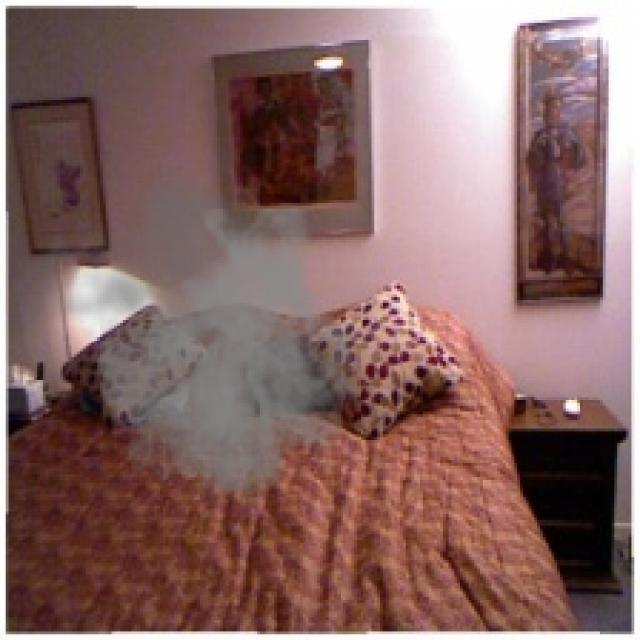Smoke: (3, 165, 363, 520)
